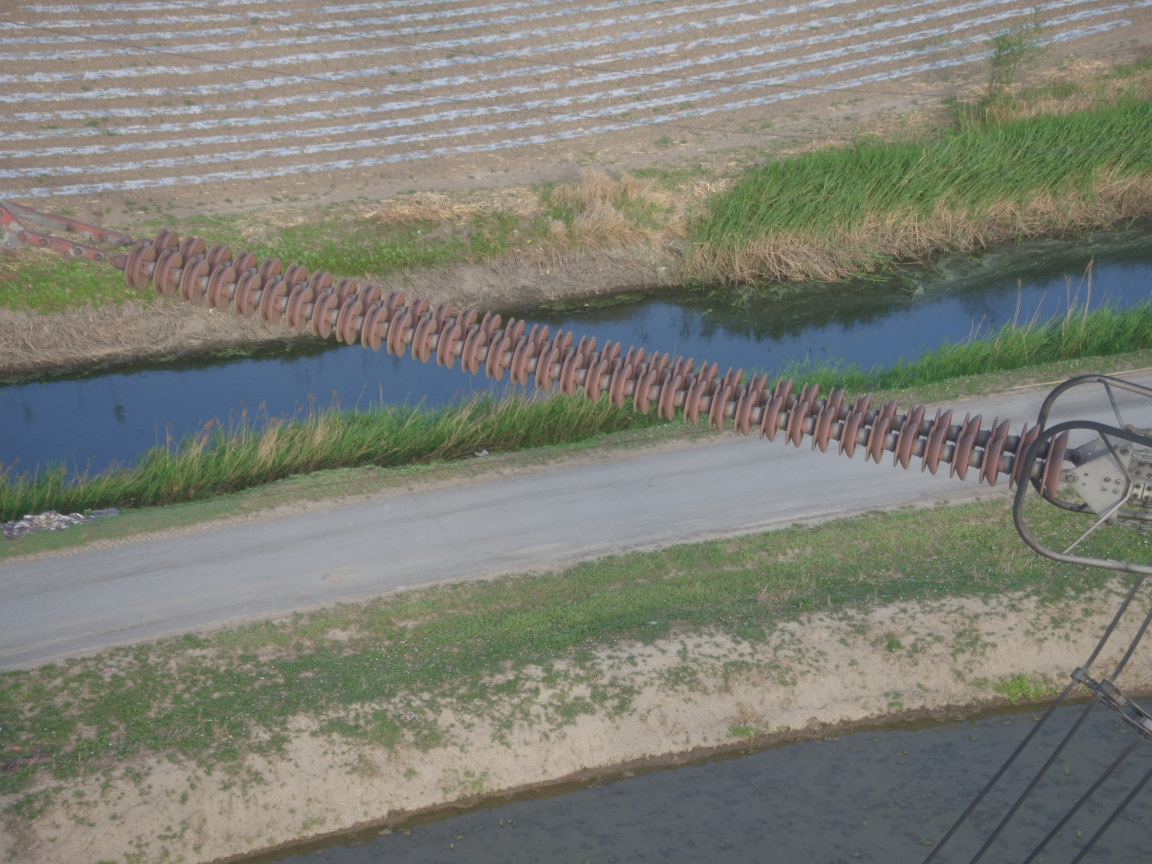insulator: (58, 218, 1086, 504)
